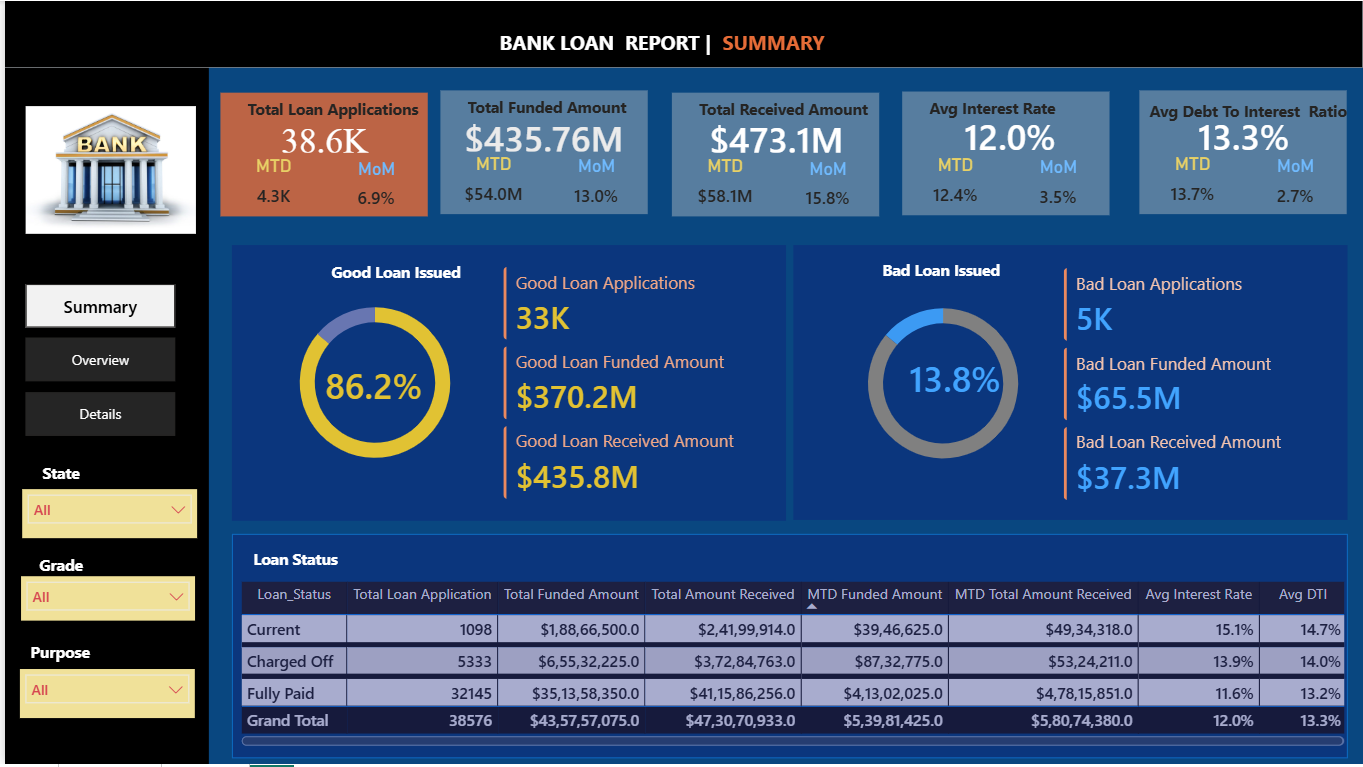

The page's visual inventory and layout, read from the dashboard file:
{"tool":"powerbi","page":{"name":"Summary","canvas":[1280,720],"ordinal":0},"visuals":[{"type":"shape","box":[0,62.7,192.3,656.9],"z":0},{"type":"shape","box":[410.3,84.2,195.6,116.7],"z":0,"group":"g5"},{"type":"shape","box":[1069.4,84.2,195.6,116.7],"z":0,"group":"g9"},{"type":"shape","box":[845.4,85.3,195.6,116.7],"z":0,"group":"g8"},{"type":"shape","box":[628.3,86.5,195.6,116.7],"z":0,"group":"g6"},{"type":"shape","box":[203.1,86.7,195.6,116.7],"z":0,"group":"g4"},{"type":"slicer","fields":{"Values":["financial_loan.grade"]},"box":[15,541.9,164.2,42.1],"z":0,"group":"g7"},{"type":"slicer","fields":{"Values":["financial_loan.purpose"]},"box":[14,630.3,164.7,46.1],"z":0,"group":"g2"},{"type":"cardVisual","fields":{"Data":["financial_loan.Avg DTI"]},"box":[1070.5,111.2,195.6,31.3],"z":1000,"group":"g9"},{"type":"cardVisual","fields":{"Data":["financial_loan.Avg Interest Rate"]},"box":[849.2,111.6,195.2,31.6],"z":1000,"group":"g3"},{"type":"cardVisual","fields":{"Data":["financial_loan.Total Amount Received"]},"box":[629.4,113.5,195.6,31.3],"z":1000,"group":"g6"},{"type":"cardVisual","fields":{"Data":["financial_loan.Total Loan Application"]},"box":[204.2,113.7,195.6,31.3],"z":1000,"group":"g4"},{"type":"shape","box":[213.8,230,522.5,260],"z":1000},{"type":"textbox","box":[16.3,516.4,73.5,30.7],"z":1000,"group":"g7"},{"type":"textbox","box":[15.1,598.5,73.5,30.7],"z":1000,"group":"g2"},{"type":"textbox","box":[430.8,84.2,175,35.7],"z":2000,"group":"g5"},{"type":"textbox","box":[865.9,85.3,175,35.7],"z":2000,"group":"g3"},{"type":"textbox","box":[648.8,86.5,175,35.7],"z":2000,"group":"g6"},{"type":"textbox","box":[223.6,86.7,175,35.7],"z":2000,"group":"g4"},{"type":"textbox","box":[1065,88.7,213.9,31.6],"z":2000,"group":"g9"},{"type":"group","id":"g1","title":"Group 4","box":[16.2,430,165.3,76.7],"z":2000},{"type":"cardVisual","title":"MTD","fields":{"Data":["financial_loan.MTD Funded Amount"]},"box":[411.4,143.6,98.3,57.3],"z":3000,"group":"g5"},{"type":"cardVisual","title":"MTD","fields":{"Data":["financial_loan.MTD Avg DTI"]},"box":[1070.5,143.6,98.3,57.3],"z":3000,"group":"g9"},{"type":"cardVisual","title":"MTD","fields":{"Data":["financial_loan.MTD Avg Interest Rate"]},"box":[846.5,144.7,98.3,57.3],"z":3000,"group":"g3"},{"type":"cardVisual","title":"MTD","fields":{"Data":["financial_loan.MTD Total Amount Received"]},"box":[629.4,145.9,98.3,57.3],"z":3000,"group":"g6"},{"type":"cardVisual","title":"MTD","fields":{"Data":["financial_loan.MTD loan Applications"]},"box":[204.2,146.1,98.3,57.3],"z":3000,"group":"g4"},{"type":"shape","box":[743.4,230.3,522.5,259.5],"z":3000},{"type":"cardVisual","title":"MoM","fields":{"Data":["financial_loan.MoM Loan Application"]},"box":[508.5,145.3,97.8,56.7],"z":4000,"group":"g5"},{"type":"cardVisual","title":"MoM","fields":{"Data":["financial_loan.MoM Avg DTI"]},"box":[1167.6,145.3,97.8,56.7],"z":4000,"group":"g9"},{"type":"cardVisual","title":"MoM","fields":{"Data":["financial_loan.MoM Avg Int Rate"]},"box":[943.6,146.4,97.8,56.7],"z":4000,"group":"g3"},{"type":"cardVisual","title":"MoM","fields":{"Data":["financial_loan.MoM Total Amount Received"]},"box":[726.5,147.6,97.8,56.7],"z":4000,"group":"g6"},{"type":"cardVisual","title":"MoM","fields":{"Data":["financial_loan.MoM Loan Application"]},"box":[301.3,147.8,97.8,56.7],"z":4000,"group":"g4"},{"type":"group","id":"g2","title":"Group 6","box":[14,598.5,165.3,77.8],"z":4000},{"type":"shape","box":[0,0,1280,62.6],"z":5000},{"type":"textbox","box":[822.5,238.8,147.5,31.2],"z":6000},{"type":"cardVisual","fields":{"Data":["financial_loan.Total Funded Amount"]},"box":[410.3,112.2,195.2,31.6],"z":7000},{"type":"group","id":"g3","title":"Group 2","box":[846.5,85.3,197.9,117.7],"z":7001,"group":"g8"},{"type":"donutChart","fields":{"Category":["financial_loan.Good v Bad Loan"],"Y":["financial_loan.Total Loan Application"]},"box":[240,266.2,217.5,187.5],"z":8000},{"type":"textbox","box":[461.1,20.9,341.4,42.8],"z":9000},{"type":"group","id":"g4","title":"Group 1","box":[203.1,86.7,196.5,117.5],"z":10000},{"type":"group","id":"g5","title":"Group 1","box":[410.3,84.2,196,117.7],"z":11000},{"type":"group","id":"g6","title":"Group 1","box":[628.3,86.5,196.4,118.1],"z":12000},{"type":"group","id":"g7","title":"Group 5","box":[15,516.4,164.2,67.6],"z":13000},{"type":"cardVisual","fields":{"Data":["financial_loan.Good Loan %"]},"box":[286.2,343.8,123.8,33.8],"z":14000},{"type":"shape","box":[213.9,502.4,1052.3,211.8],"z":14000,"group":"g10"},{"type":"group","id":"g8","title":"Group 1","box":[845.4,85.3,198.7,118.1],"z":15000},{"type":"group","id":"g9","title":"Group 1","box":[1065,84.2,213.9,117.7],"z":16000},{"type":"cardVisual","fields":{"Data":["financial_loan.Good Loan Applications","financial_loan.Good Loan Funded Amount","financial_loan.Good Loan Received Amount"]},"box":[465,245,262.5,230],"z":17000},{"type":"donutChart","fields":{"Category":["financial_loan.Good v Bad Loan"],"Y":["financial_loan.Total Loan Application"]},"box":[775.7,266.9,217.2,186.9],"z":18000},{"type":"tableEx","fields":{"Values":["financial_loan.loan_status","financial_loan.Total Loan Application","financial_loan.Total Funded Amount","financial_loan.Total Amount Received","financial_loan.MTD Funded Amount","financial_loan.MTD Total Amount Received","financial_loan.Avg Interest Rate","financial_loan.Avg DTI"]},"box":[217.4,542.3,1050.5,164.7],"z":19000},{"type":"textbox","box":[302.5,240,147.5,31.2],"z":20000},{"type":"slicer","fields":{"Values":["financial_loan.address_state"]},"box":[16.2,460.7,164.7,46.1],"z":20000,"group":"g1"},{"type":"cardVisual","fields":{"Data":["financial_loan.Bad Loan %"]},"box":[840,337.5,113.8,33.8],"z":21000},{"type":"textbox","box":[16.2,430,73.5,30.7],"z":21000,"group":"g1"},{"type":"textbox","box":[229.4,511.6,147.1,30.7],"z":21000,"group":"g10"},{"type":"cardVisual","fields":{"Data":["financial_loan.Bad Loan Applications","financial_loan.Bad Loan Funded Amount","financial_loan.Bad Loan Received Amount"]},"box":[992.5,246.2,262.5,230],"z":22000},{"type":"group","id":"g10","title":"Group 3","box":[213.9,502.4,1052.3,211.8],"z":23000},{"type":"image","box":[19.4,84.3,161,150.2],"z":24000},{"type":"pageNavigator","box":[19.4,266.9,141.5,143.7],"z":25000}]}

Visuals, with their boxes in screenshot pixels (x1, y1, x2, y2), scaled from the page's 1280x720 canvas onto the 1363x767 screenshot:
shape: rect(0, 67, 205, 766)
shape: rect(437, 90, 645, 214)
shape: rect(1139, 90, 1347, 214)
shape: rect(900, 91, 1109, 215)
shape: rect(669, 92, 877, 216)
shape: rect(216, 92, 425, 217)
slicer - financial_loan.grade: rect(16, 577, 191, 622)
slicer - financial_loan.purpose: rect(15, 671, 190, 721)
cardVisual - financial_loan.Avg DTI: rect(1140, 118, 1348, 152)
cardVisual - financial_loan.Avg Interest Rate: rect(904, 119, 1112, 153)
cardVisual - financial_loan.Total Amount Received: rect(670, 121, 878, 154)
cardVisual - financial_loan.Total Loan Application: rect(217, 121, 426, 154)
shape: rect(228, 245, 784, 522)
textbox: rect(17, 550, 96, 583)
textbox: rect(16, 638, 94, 670)
textbox: rect(459, 90, 645, 128)
textbox: rect(922, 91, 1108, 129)
textbox: rect(691, 92, 877, 130)
textbox: rect(238, 92, 424, 130)
textbox: rect(1134, 94, 1362, 128)
"Group 4" group: rect(17, 458, 193, 540)
"MTD" cardVisual: rect(438, 153, 543, 214)
"MTD" cardVisual: rect(1140, 153, 1245, 214)
"MTD" cardVisual: rect(901, 154, 1006, 215)
"MTD" cardVisual: rect(670, 155, 775, 216)
"MTD" cardVisual: rect(217, 156, 322, 217)
shape: rect(792, 245, 1348, 522)
"MoM" cardVisual: rect(541, 155, 646, 215)
"MoM" cardVisual: rect(1243, 155, 1347, 215)
"MoM" cardVisual: rect(1005, 156, 1109, 216)
"MoM" cardVisual: rect(774, 157, 878, 218)
"MoM" cardVisual: rect(321, 157, 425, 218)
"Group 6" group: rect(15, 638, 191, 720)
shape: rect(0, 0, 1362, 67)
textbox: rect(876, 254, 1033, 288)
cardVisual - financial_loan.Total Funded Amount: rect(437, 120, 645, 153)
"Group 2" group: rect(901, 91, 1112, 216)
donutChart - financial_loan.Good v Bad Loan x financial_loan.Total Loan Application: rect(256, 284, 487, 483)
textbox: rect(491, 22, 855, 68)
"Group 1" group: rect(216, 92, 426, 218)
"Group 1" group: rect(437, 90, 646, 215)
"Group 1" group: rect(669, 92, 878, 218)
"Group 5" group: rect(16, 550, 191, 622)
cardVisual - financial_loan.Good Loan %: rect(305, 366, 437, 402)
shape: rect(228, 535, 1348, 761)
"Group 1" group: rect(900, 91, 1112, 217)
"Group 1" group: rect(1134, 90, 1362, 215)
cardVisual - financial_loan.Good Loan Applications x financial_loan.Good Loan Funded Amount: rect(495, 261, 775, 506)
donutChart - financial_loan.Good v Bad Loan x financial_loan.Total Loan Application: rect(826, 284, 1057, 483)
tableEx - financial_loan.loan_status x financial_loan.Total Loan Application: rect(231, 578, 1350, 753)
textbox: rect(322, 256, 479, 289)
slicer - financial_loan.address_state: rect(17, 491, 193, 540)
cardVisual - financial_loan.Bad Loan %: rect(894, 360, 1016, 396)
textbox: rect(17, 458, 96, 491)
textbox: rect(244, 545, 401, 578)
cardVisual - financial_loan.Bad Loan Applications x financial_loan.Bad Loan Funded Amount: rect(1057, 262, 1336, 507)
"Group 3" group: rect(228, 535, 1348, 761)
image: rect(21, 90, 192, 250)
pageNavigator: rect(21, 284, 171, 437)
